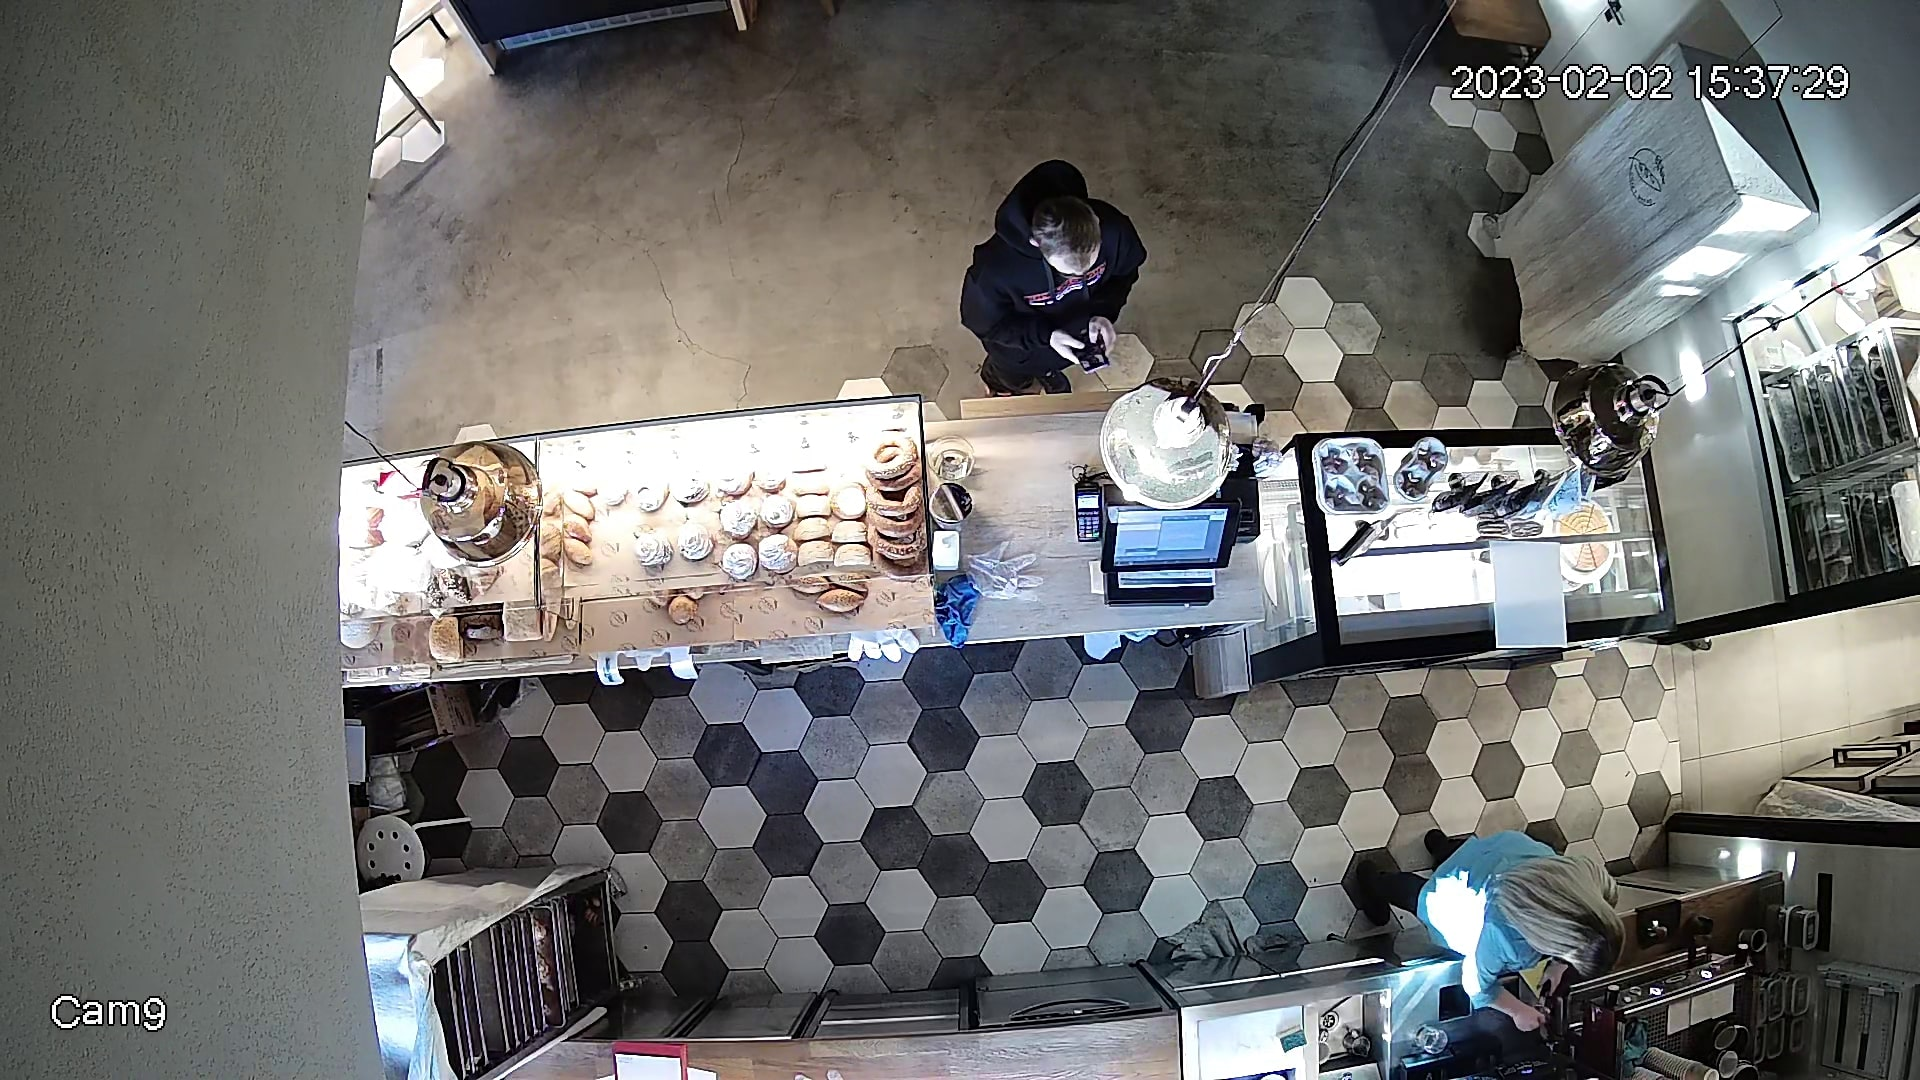barcounter: (360, 433, 1663, 668)
person: (1361, 800, 1632, 989), (958, 156, 1129, 380)
